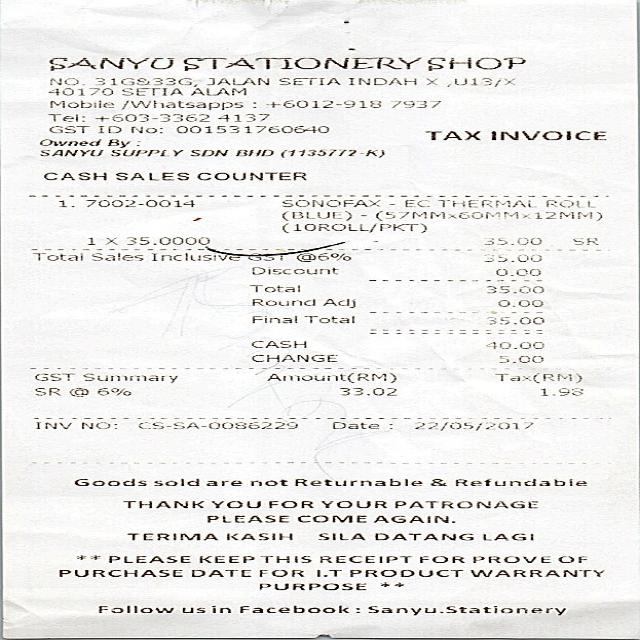text: (182, 57, 419, 69), (368, 604, 564, 614), (46, 57, 172, 69), (280, 222, 424, 232), (375, 210, 516, 220), (266, 372, 395, 382), (136, 420, 294, 428), (120, 99, 240, 109), (424, 57, 523, 69), (413, 421, 532, 430), (174, 125, 326, 132), (490, 130, 605, 139), (392, 500, 536, 507), (492, 372, 580, 383), (80, 372, 176, 382), (469, 569, 602, 576), (264, 99, 378, 107), (348, 568, 462, 576), (281, 148, 382, 157), (94, 76, 194, 85), (194, 171, 305, 179), (240, 604, 348, 612), (126, 236, 208, 246), (454, 478, 585, 484), (438, 199, 536, 207), (150, 252, 237, 261), (522, 210, 600, 220), (84, 199, 193, 206), (256, 582, 364, 589), (295, 478, 420, 484), (58, 569, 180, 575), (279, 199, 377, 206), (94, 114, 208, 120), (280, 210, 348, 220), (251, 266, 336, 274), (373, 514, 454, 522), (248, 354, 334, 361), (372, 533, 470, 539), (114, 171, 187, 179), (122, 500, 202, 507), (206, 514, 286, 521), (452, 77, 514, 86), (318, 555, 411, 561), (124, 533, 216, 539), (470, 555, 548, 562), (96, 605, 170, 612), (48, 99, 111, 107), (108, 148, 180, 155), (41, 171, 104, 179), (424, 130, 479, 139), (107, 555, 189, 561), (294, 252, 348, 261), (296, 514, 365, 521), (347, 77, 415, 84), (484, 316, 543, 324), (90, 251, 142, 260), (483, 254, 540, 262), (47, 87, 111, 94), (37, 148, 101, 155), (337, 387, 393, 395), (321, 500, 385, 507), (37, 138, 99, 145), (73, 478, 145, 484), (276, 77, 337, 84), (206, 77, 267, 84), (120, 87, 181, 94), (251, 298, 312, 305), (246, 284, 298, 292), (484, 341, 543, 348), (331, 421, 376, 430), (217, 113, 267, 121), (494, 267, 538, 276), (224, 533, 290, 539), (483, 237, 539, 244), (32, 252, 81, 260), (189, 87, 243, 94), (249, 340, 303, 347), (255, 125, 308, 132), (496, 298, 542, 306), (189, 569, 249, 575), (544, 200, 595, 207), (484, 286, 543, 292), (498, 355, 542, 363), (208, 500, 258, 507), (390, 100, 439, 107), (303, 315, 352, 322), (198, 555, 253, 561), (181, 605, 228, 612), (322, 297, 354, 307), (33, 372, 73, 380), (250, 315, 294, 322), (480, 533, 531, 539), (246, 252, 284, 260), (268, 500, 311, 507), (258, 555, 308, 561), (538, 388, 580, 395), (34, 420, 70, 428), (315, 533, 363, 539), (48, 125, 88, 132), (96, 387, 130, 395), (81, 420, 115, 428), (151, 478, 196, 484), (187, 148, 225, 155), (258, 569, 302, 575), (234, 148, 271, 155), (419, 555, 462, 561), (128, 125, 160, 133), (248, 478, 286, 484), (46, 114, 83, 120), (206, 479, 240, 485), (47, 77, 76, 84), (33, 387, 58, 395), (403, 199, 427, 207), (558, 555, 585, 562), (106, 138, 128, 146), (571, 237, 596, 244), (96, 125, 118, 132), (315, 569, 340, 575), (67, 387, 85, 395), (427, 478, 444, 484), (104, 237, 116, 244), (56, 199, 64, 207), (86, 237, 94, 244), (426, 78, 434, 84), (54, 125, 73, 127)
